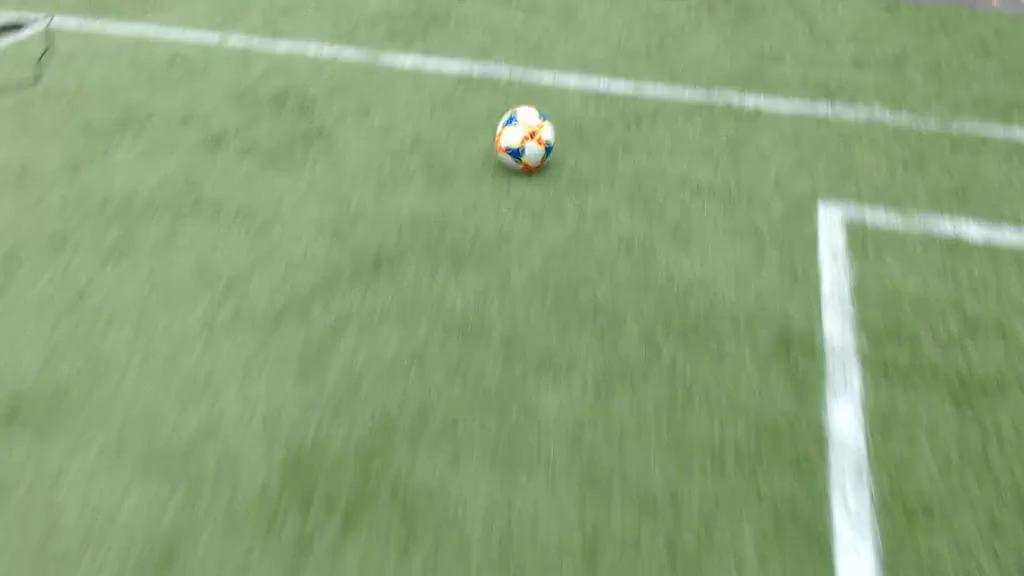ball: (495, 106, 553, 172)
